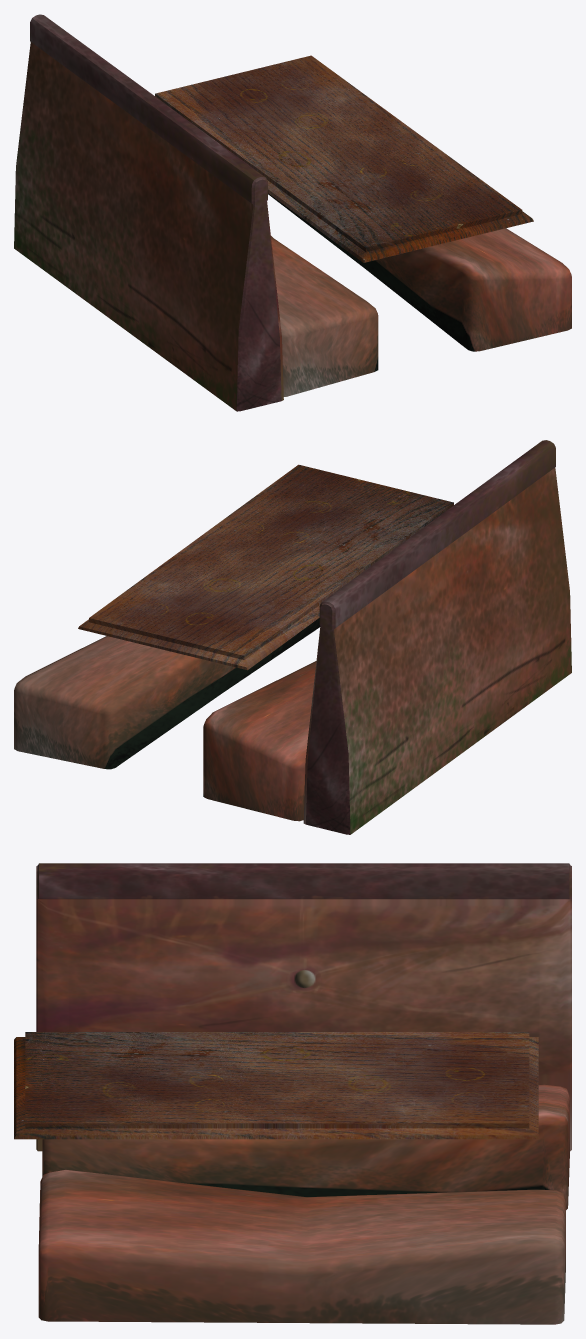
File: Booth02.fbx
3 views of the same model, one above another, from view 1: azimuth 30°, elevation 25°; view 2: azimuth 150°, elevation 25°; view 3: azimuth 270°, elevation 25° (orthographic). The views are drawn at different scales.
Visible parts, largest first — view 1: Empty_Mesh; view 2: Empty_Mesh; view 3: Empty_Mesh.
Part boxes in pixels (x1,y1,x2,y2): Empty_Mesh: (14,14,571,411); Empty_Mesh: (14,440,571,834); Empty_Mesh: (14,863,571,1324).
Size of the model in its own units: 232 by 147 by 273.
